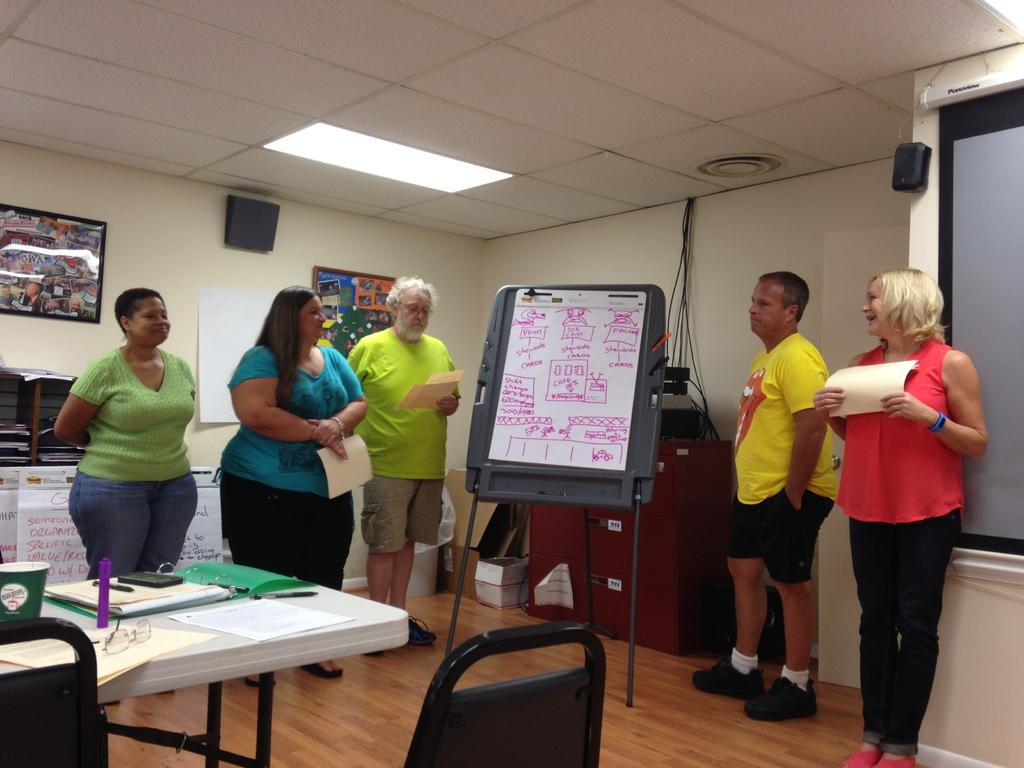Chair: (400, 580, 617, 751), (0, 625, 115, 767)
